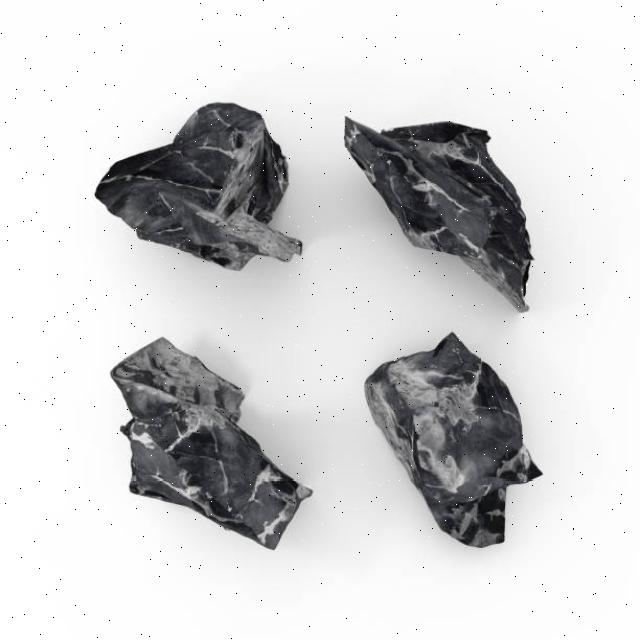Metamorphic: (105, 339, 319, 554), (343, 116, 556, 300), (93, 101, 306, 271)
